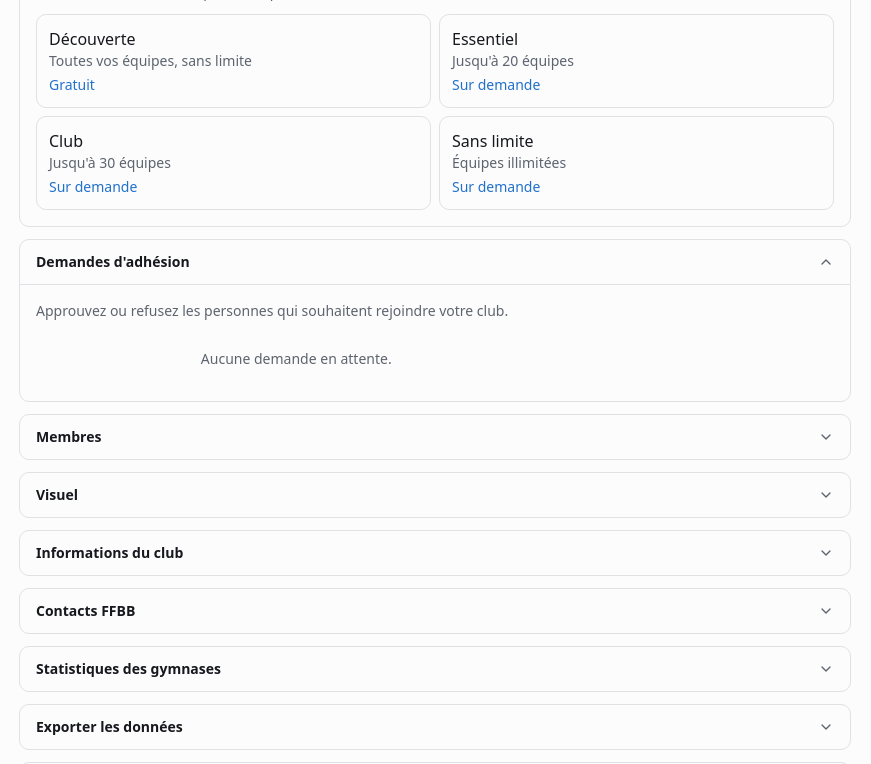
Test: ClubPage › Stats gymnases : sans planning en vigueur, la section explique au lieu d'afficher des zéros
(page scrolled)
Click the button "Statistiques des gymnases": [128, 668] box [20,647,850,691]
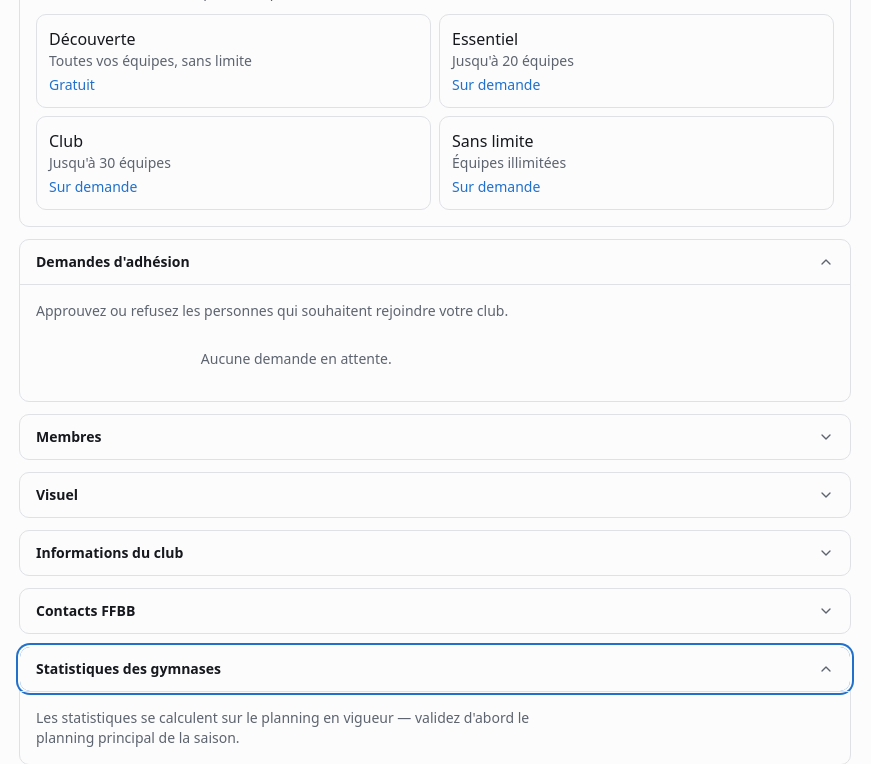
Expected: the text "validez d'abord le planning principal" is shown, [36,708,529,747]
